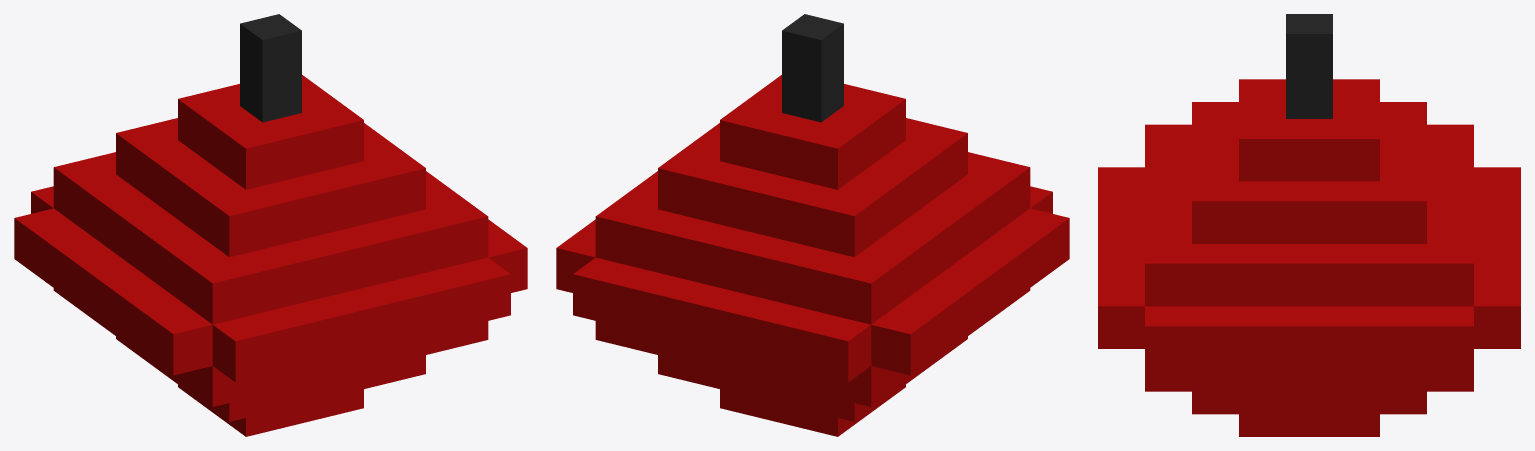
File: aple.obj
The picture shows the model from 3 angles, left to right: view 1: azimuth 30°, elevation 25°; view 2: azimuth 150°, elevation 25°; view 3: azimuth 270°, elevation 25°; orthographic projection. The views are drawn at different scales.
Bounding box in the file's own units: 0.9 × 0.9 × 0.9.
Materials: 1 (1 with a texture image).
